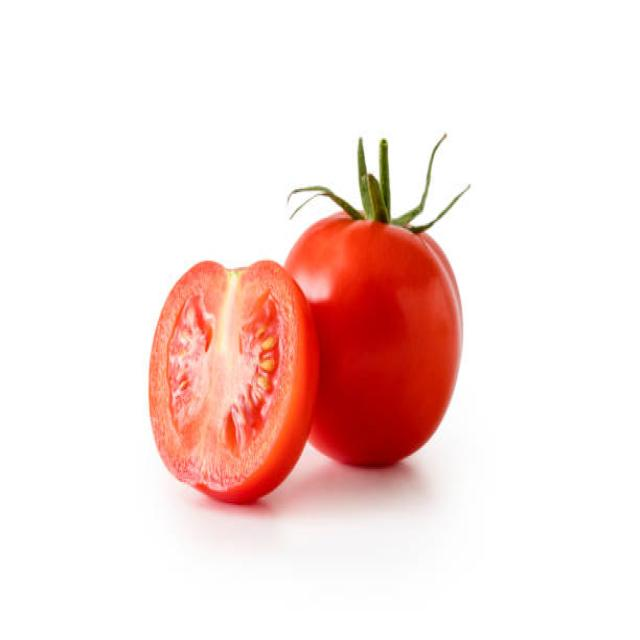Tomato: (134, 243, 328, 512)
